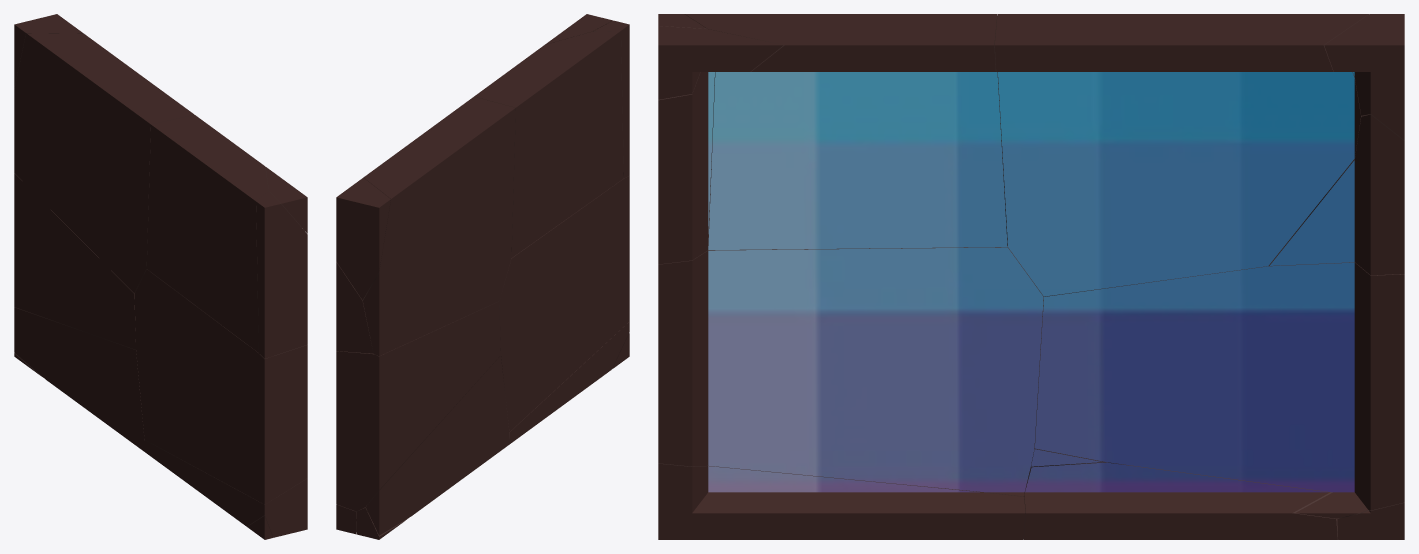
Rendered from painting2_DEST.fbx.
3 renders of one model, left to right at view 1: azimuth 30°, elevation 25°; view 2: azimuth 150°, elevation 25°; view 3: azimuth 270°, elevation 25°, orthographic. The views are drawn at different scales.
Parts seen in each view (by area): view 1: polySurface76_cell.012, polySurface76_cell.011, polySurface76_cell.002, polySurface76_cell.006, polySurface76_cell.004, polySurface76_cell.013, polySurface76_cell.007, polySurface76_cell.003, polySurface76_cell.009; view 2: polySurface76_cell.012, polySurface76_cell.011, polySurface76_cell.002, polySurface76_cell.006, polySurface76_cell.004, polySurface76_cell.003, polySurface76_cell.007, polySurface76_cell.008, polySurface76_cell.013, polySurface76_cell.009, polySurface76_cell.010, polySurface76_cell.005; view 3: polySurface76_cell.012, polySurface76_cell.011, polySurface76_cell.006, polySurface76_cell.002, polySurface76_cell.007, polySurface76_cell.010, polySurface76_cell.008, polySurface76_cell.013, polySurface76_cell.003, polySurface76_cell.009, polySurface76_cell.005.
Part boxes in pixels (bbox=[...]): polySurface76_cell.012: bbox=[14, 33, 194, 293]; polySurface76_cell.011: bbox=[134, 269, 307, 504]; polySurface76_cell.002: bbox=[146, 115, 269, 352]; polySurface76_cell.006: bbox=[14, 173, 135, 349]; polySurface76_cell.004: bbox=[14, 307, 144, 451]; polySurface76_cell.013: bbox=[256, 191, 307, 358]; polySurface76_cell.007: bbox=[144, 440, 307, 537]; polySurface76_cell.003: bbox=[14, 14, 83, 88]; polySurface76_cell.009: bbox=[265, 167, 307, 233]; polySurface76_cell.012: bbox=[362, 97, 515, 355]; polySurface76_cell.011: bbox=[499, 176, 629, 431]; polySurface76_cell.002: bbox=[474, 31, 623, 257]; polySurface76_cell.006: bbox=[336, 301, 500, 511]; polySurface76_cell.004: bbox=[365, 355, 509, 535]; polySurface76_cell.003: bbox=[336, 177, 390, 299]; polySurface76_cell.007: bbox=[509, 322, 629, 443]; polySurface76_cell.008: bbox=[336, 262, 373, 353]; polySurface76_cell.013: bbox=[593, 20, 629, 178]; polySurface76_cell.009: bbox=[545, 14, 612, 44]; polySurface76_cell.010: bbox=[356, 507, 408, 539]; polySurface76_cell.005: bbox=[336, 504, 356, 534]; polySurface76_cell.012: bbox=[994, 14, 1368, 296]; polySurface76_cell.011: bbox=[658, 246, 1043, 496]; polySurface76_cell.006: bbox=[1035, 262, 1404, 518]; polySurface76_cell.002: bbox=[685, 14, 1007, 249]; polySurface76_cell.007: bbox=[658, 463, 1025, 539]; polySurface76_cell.010: bbox=[1023, 462, 1338, 539]; polySurface76_cell.008: bbox=[1270, 114, 1404, 275]; polySurface76_cell.013: bbox=[658, 14, 714, 264]; polySurface76_cell.003: bbox=[1324, 14, 1404, 140]; polySurface76_cell.009: bbox=[658, 26, 783, 99]; polySurface76_cell.005: bbox=[1337, 502, 1404, 539].
Bounding box in the file's own units: 0.3845 × 2.85 × 3.89.
